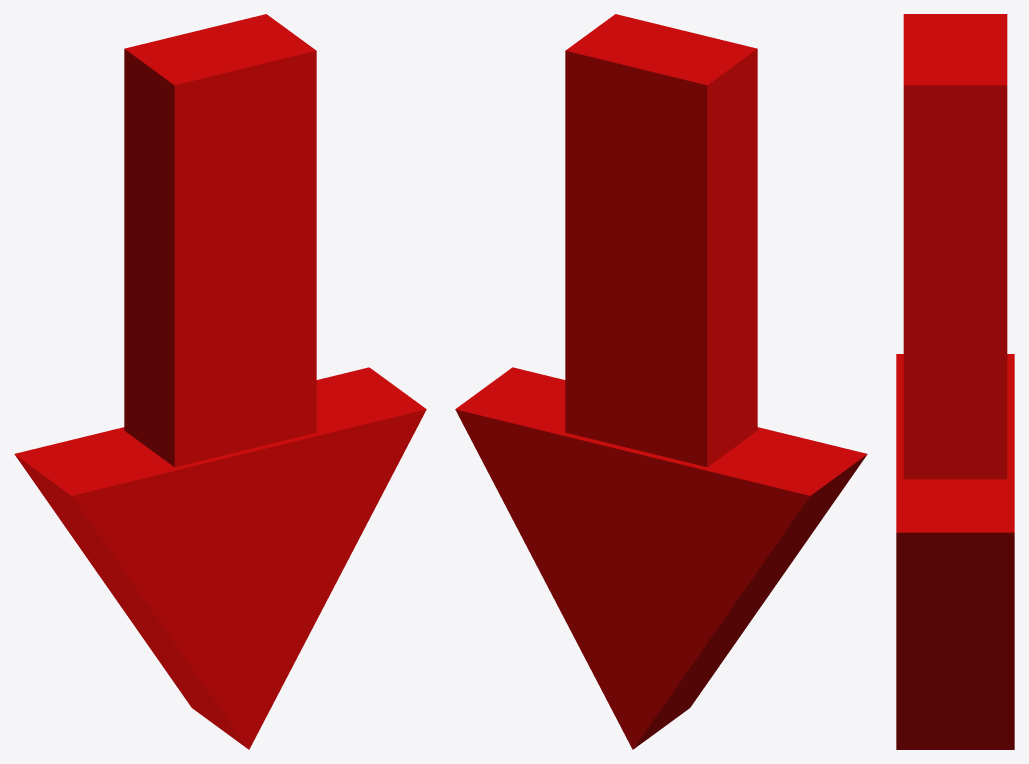
File: Arrow.FBX
The picture shows the model from 3 angles, left to right: view 1: azimuth 30°, elevation 25°; view 2: azimuth 150°, elevation 25°; view 3: azimuth 270°, elevation 25°; orthographic projection. The views are drawn at different scales.
Visible parts, largest first — view 1: Body, Pointer; view 2: Body, Pointer; view 3: Body, Pointer.
Boxes of the visible parts, x1,y1,x2,y2 form: Body: (124, 14, 316, 467); Pointer: (14, 367, 426, 749); Body: (565, 14, 757, 467); Pointer: (455, 367, 867, 749); Body: (903, 14, 1007, 479); Pointer: (896, 354, 1014, 749).
Bounding box in the file's own units: 0.635 × 0.1778 × 1.16.
